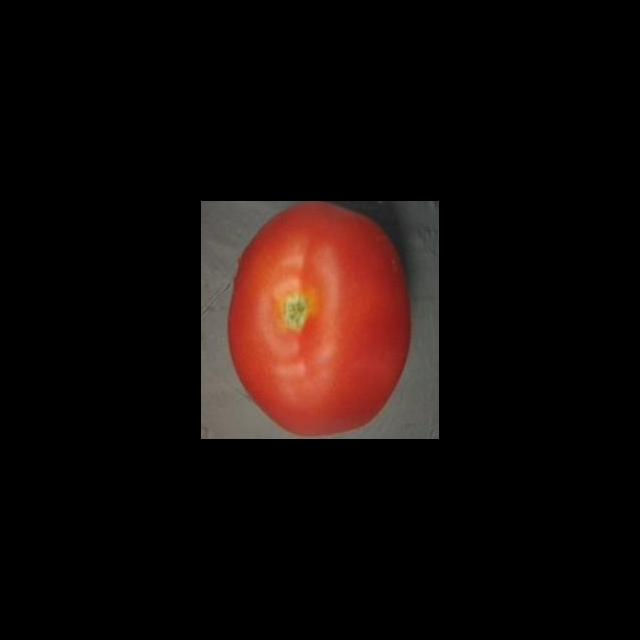tomato: (223, 201, 414, 439)
